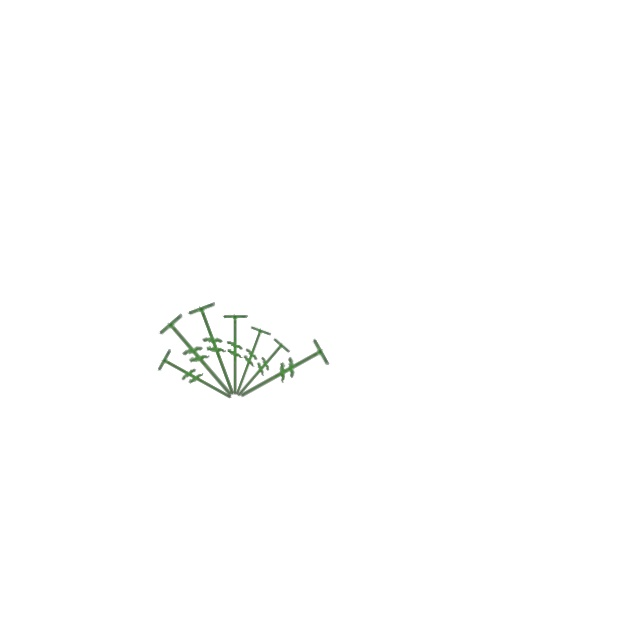fan: (154, 307, 250, 411), (227, 333, 335, 415), (183, 296, 253, 405), (154, 344, 243, 412), (226, 334, 295, 407), (223, 322, 275, 404), (220, 311, 252, 399)
